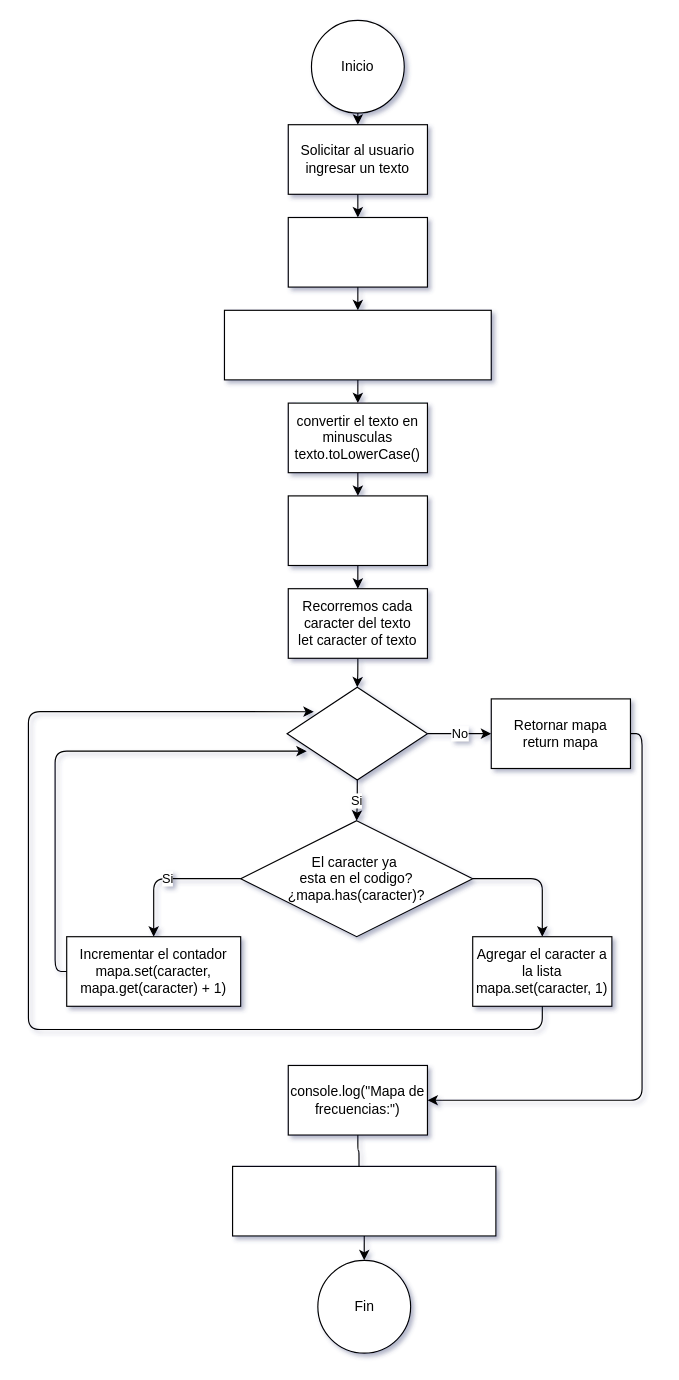
The diagram is 679 pixels wide and 1380 high, and some of its shapes have lost their labels. Each missing label, with the centre of its shape:
Creamos un nuevo mapa mapa = new Map(): point 357,530
Guardar en la variable "Texto": point 357,251
Imprimir el mapa de frecuencias console.log(frecuenciaCaracteres(texto)): point 363,1200
Iniciamos la funcion function frecuenciaCaracteres(texto): point 357,344
Quedan caracteres en el texto?: point 356,733
